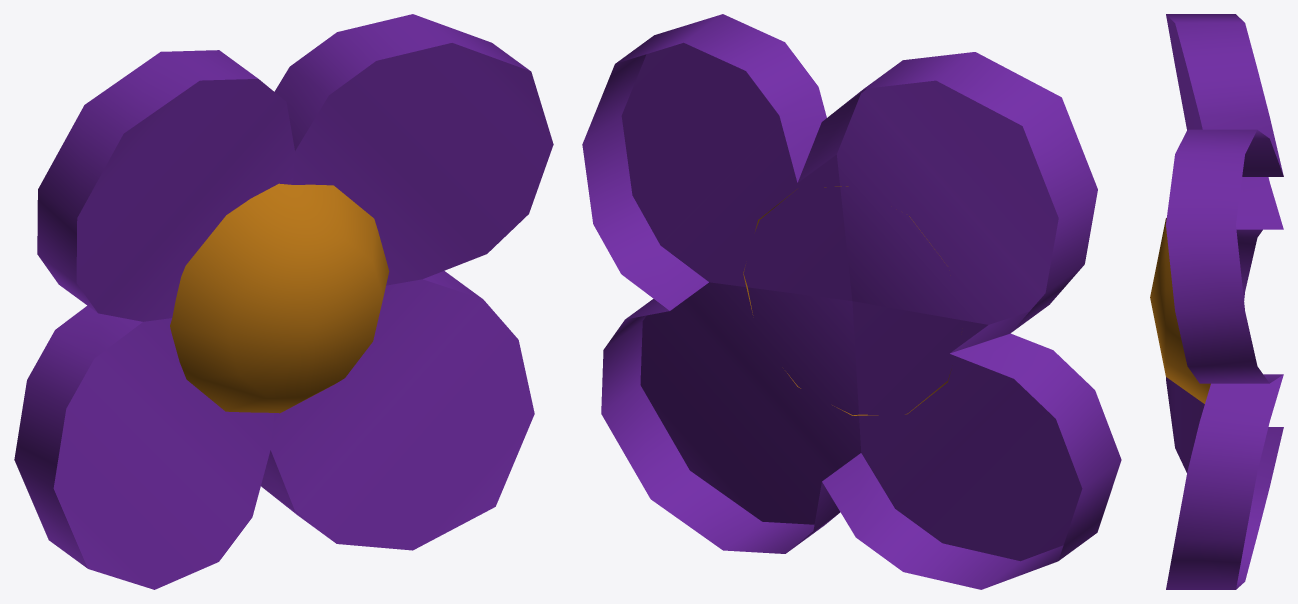
The model's file is plant_bud_03.fbx.
The picture shows the model from 3 angles, left to right: view 1: azimuth 30°, elevation 25°; view 2: azimuth 150°, elevation 25°; view 3: azimuth 270°, elevation 25°; orthographic projection. The views are drawn at different scales.
Visible parts, largest first — view 1: plant_bud_03; view 2: plant_bud_03; view 3: plant_bud_03.
Part boxes in pixels (bbox=[...]): plant_bud_03: bbox=[14, 14, 553, 589]; plant_bud_03: bbox=[582, 14, 1121, 589]; plant_bud_03: bbox=[1150, 14, 1283, 589].
Size of the model in its own units: 39.01 by 38.91 by 10.13.
